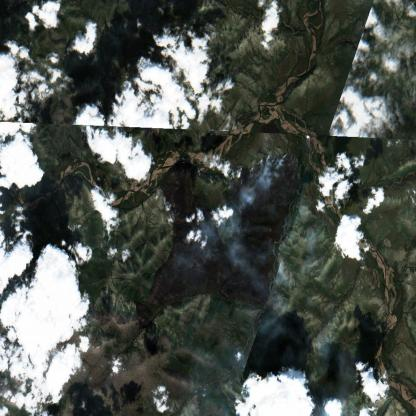fire: (223, 134, 306, 196)
